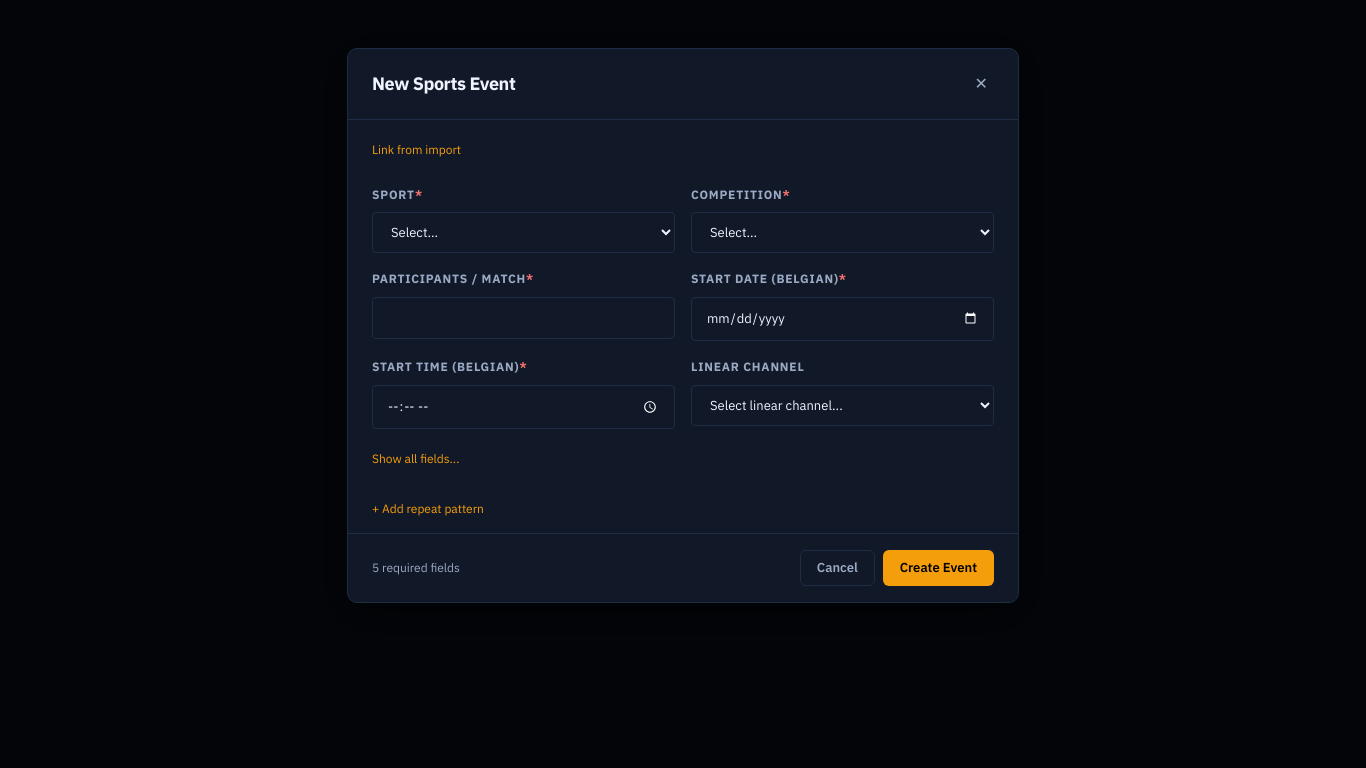
Scenario: DynamicEventForm — required-field validation › empty submit: sport/competition show "Valid ... required", other required fields show "Required"; nothing saved
Click the button "Create Event": (938,568) [883,550,994,586]
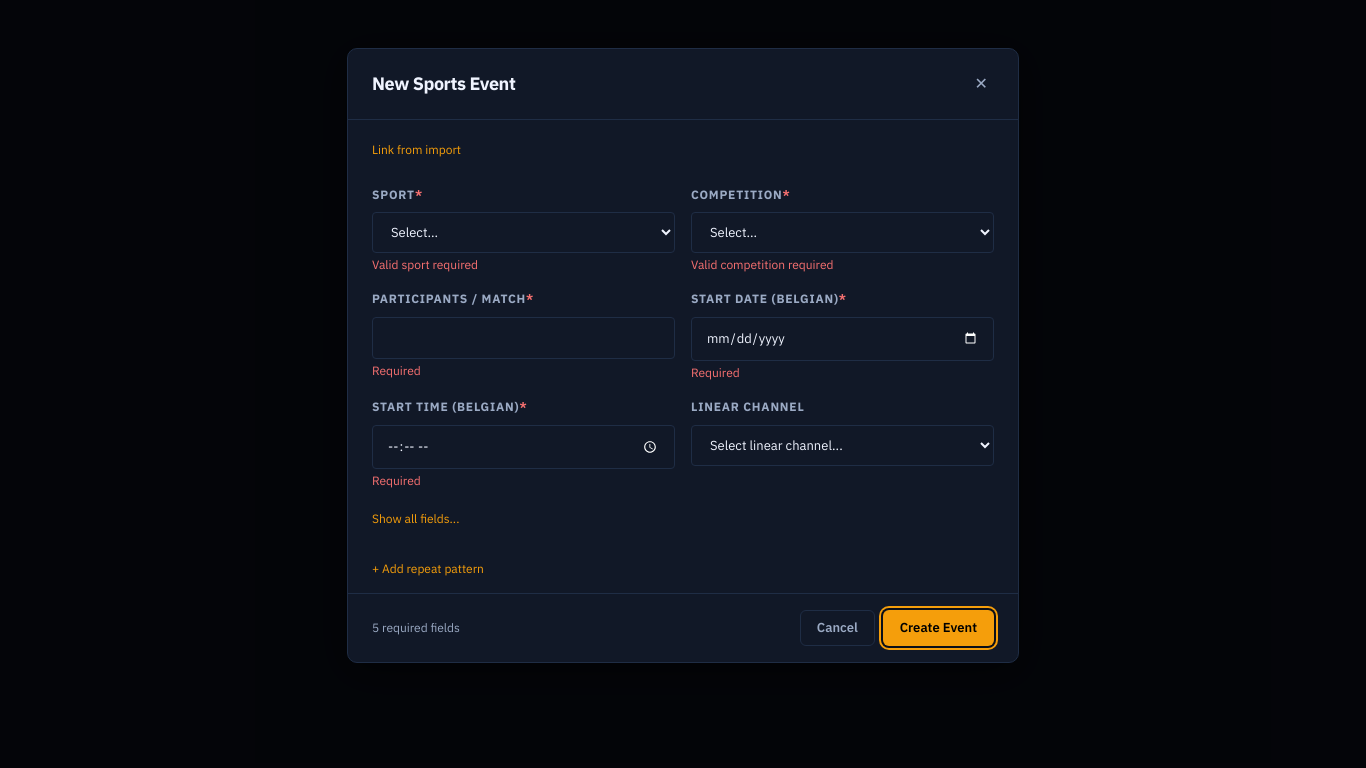
Expected: the text "Valid sport required" is shown, [372,257,478,272]
Expected: the text "Valid competition required" is shown, [691,257,834,272]
Expected: the text "Required" is shown 3 times, [372,363,421,378]; [691,365,740,380]; [372,473,421,488]
